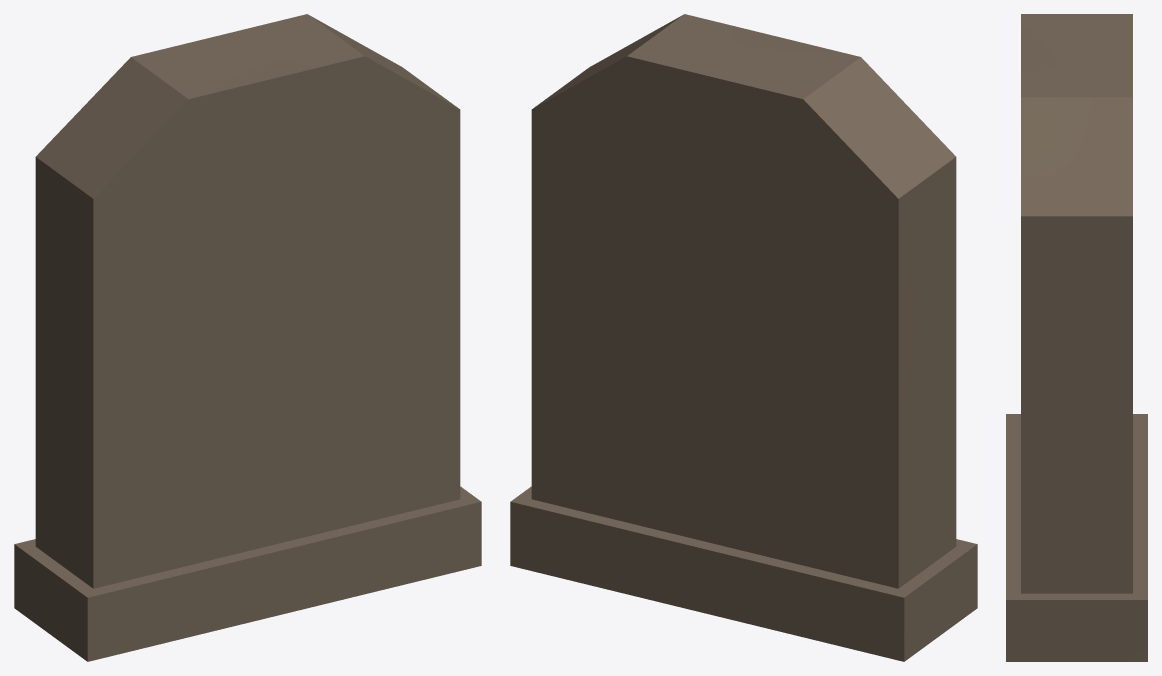
Rendered from kit-headstone.glb.
3 renders of one model, left to right at view 1: azimuth 30°, elevation 25°; view 2: azimuth 150°, elevation 25°; view 3: azimuth 270°, elevation 25°, orthographic. The views are drawn at different scales.
Visible parts, largest first — view 1: Cube.301; view 2: Cube.301; view 3: Cube.301.
Part boxes in pixels (left/top/right/bottom): Cube.301: left=14, top=14, right=481, bottom=661; Cube.301: left=510, top=14, right=977, bottom=661; Cube.301: left=1006, top=14, right=1147, bottom=661.
Size of the model in its own units: 0.4881 by 0.6282 by 0.1574.
Materials: 1 (1 with a texture image).
